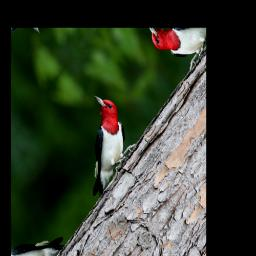Woodpecker: (53, 86, 146, 203)
